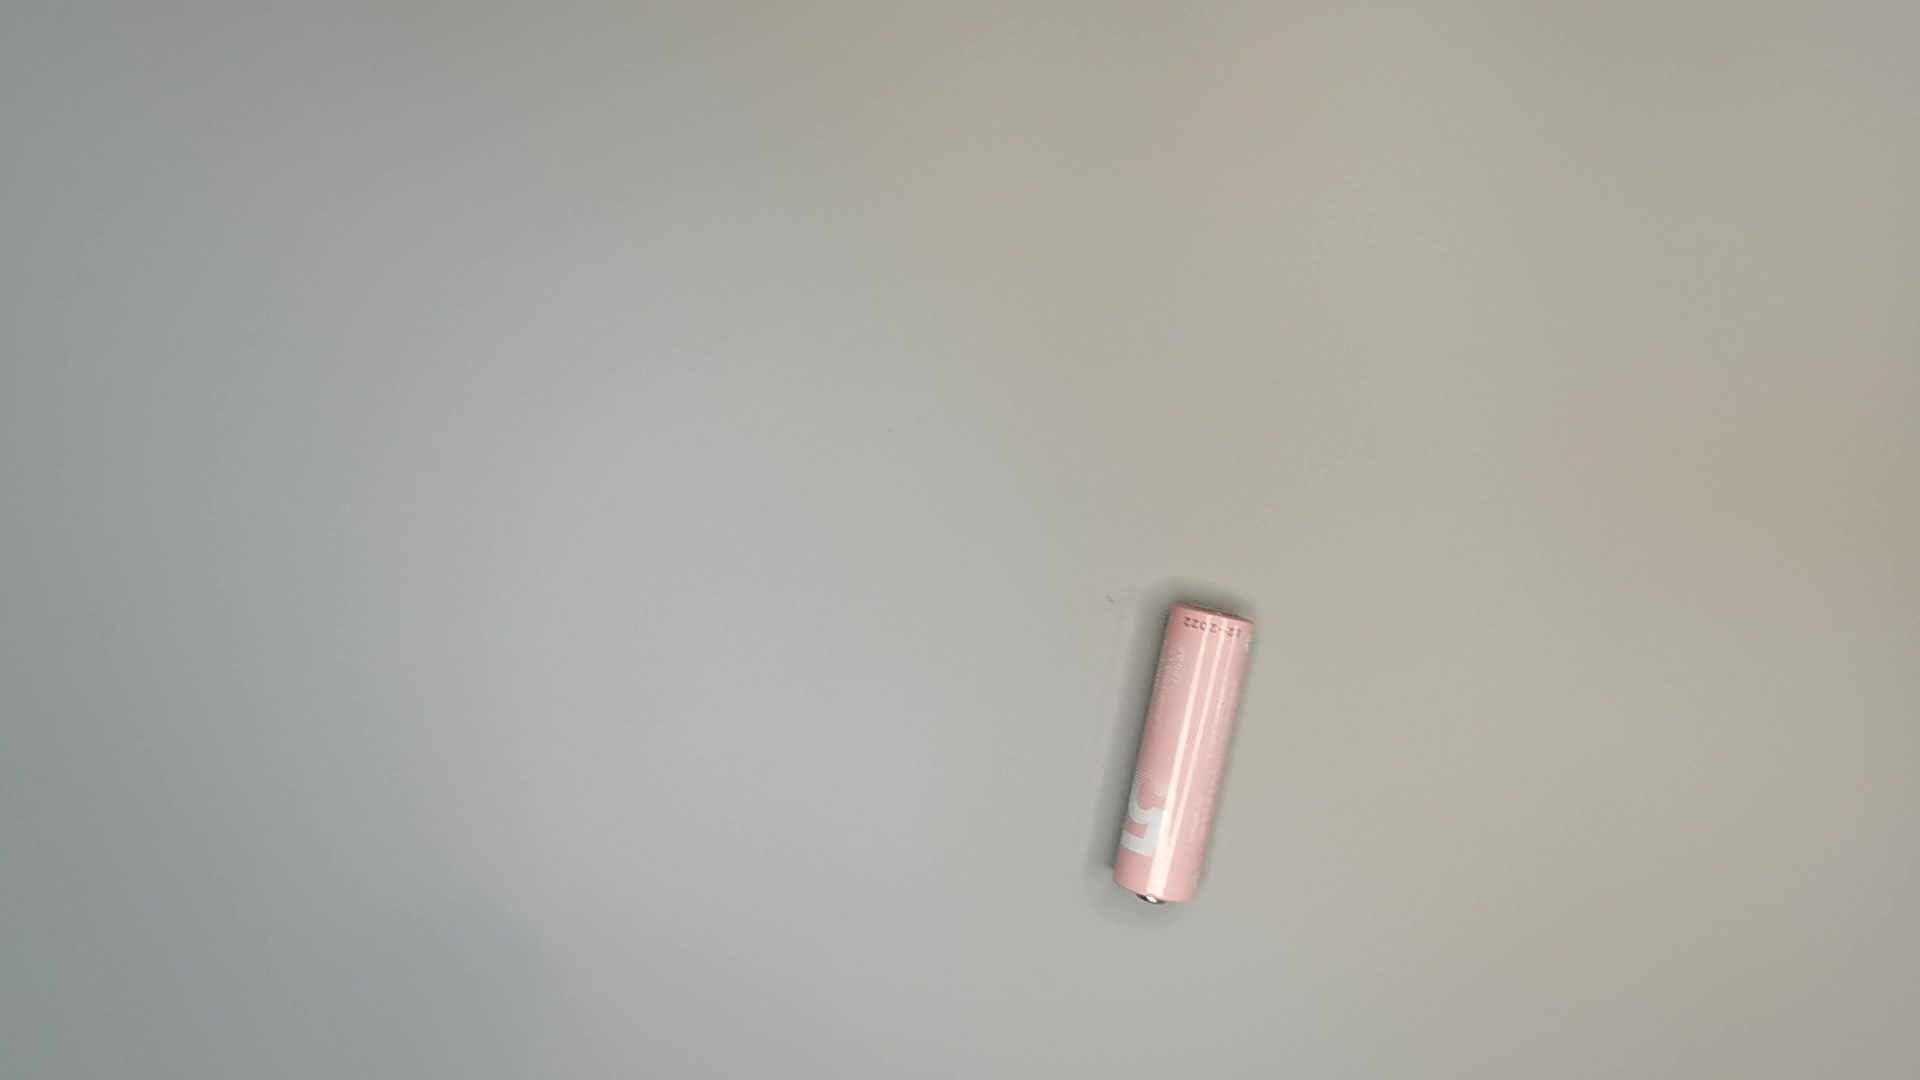battery: (1108, 593, 1267, 922)
